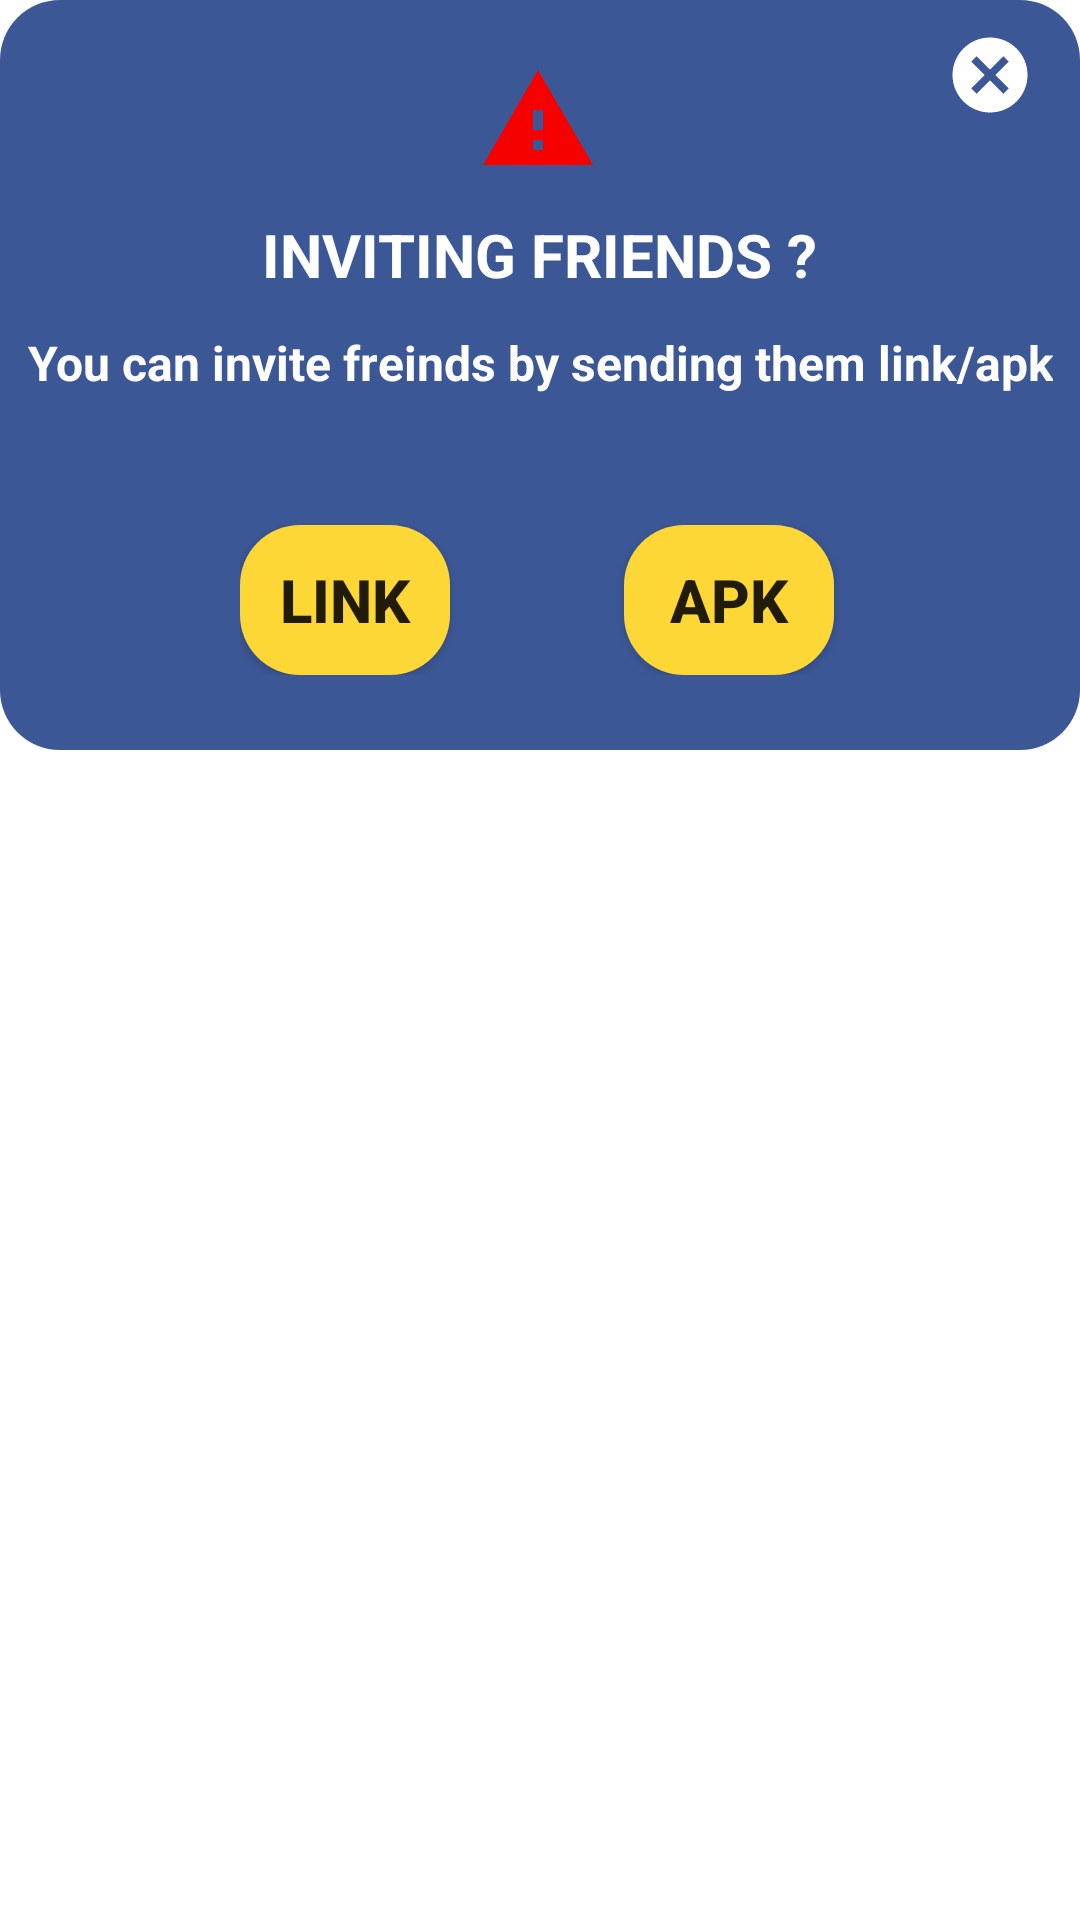

Icon bounding boxes for this 1080 x 1920 phone screenshot, format {"x1": x1, "y1": y1, "x2": x2, "y2": y2}:
cancelicon: {"x1": 952, "y1": 37, "x2": 1028, "y2": 113}
warningicon: {"x1": 483, "y1": 70, "x2": 593, "y2": 165}
